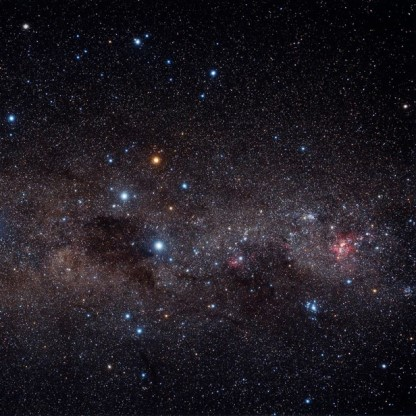Southern Cross: (146, 233, 172, 259), (114, 186, 133, 207), (145, 151, 165, 169), (176, 175, 193, 193)
